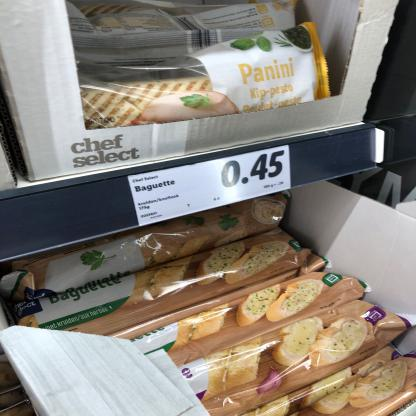prtg: (129, 146, 292, 227)
